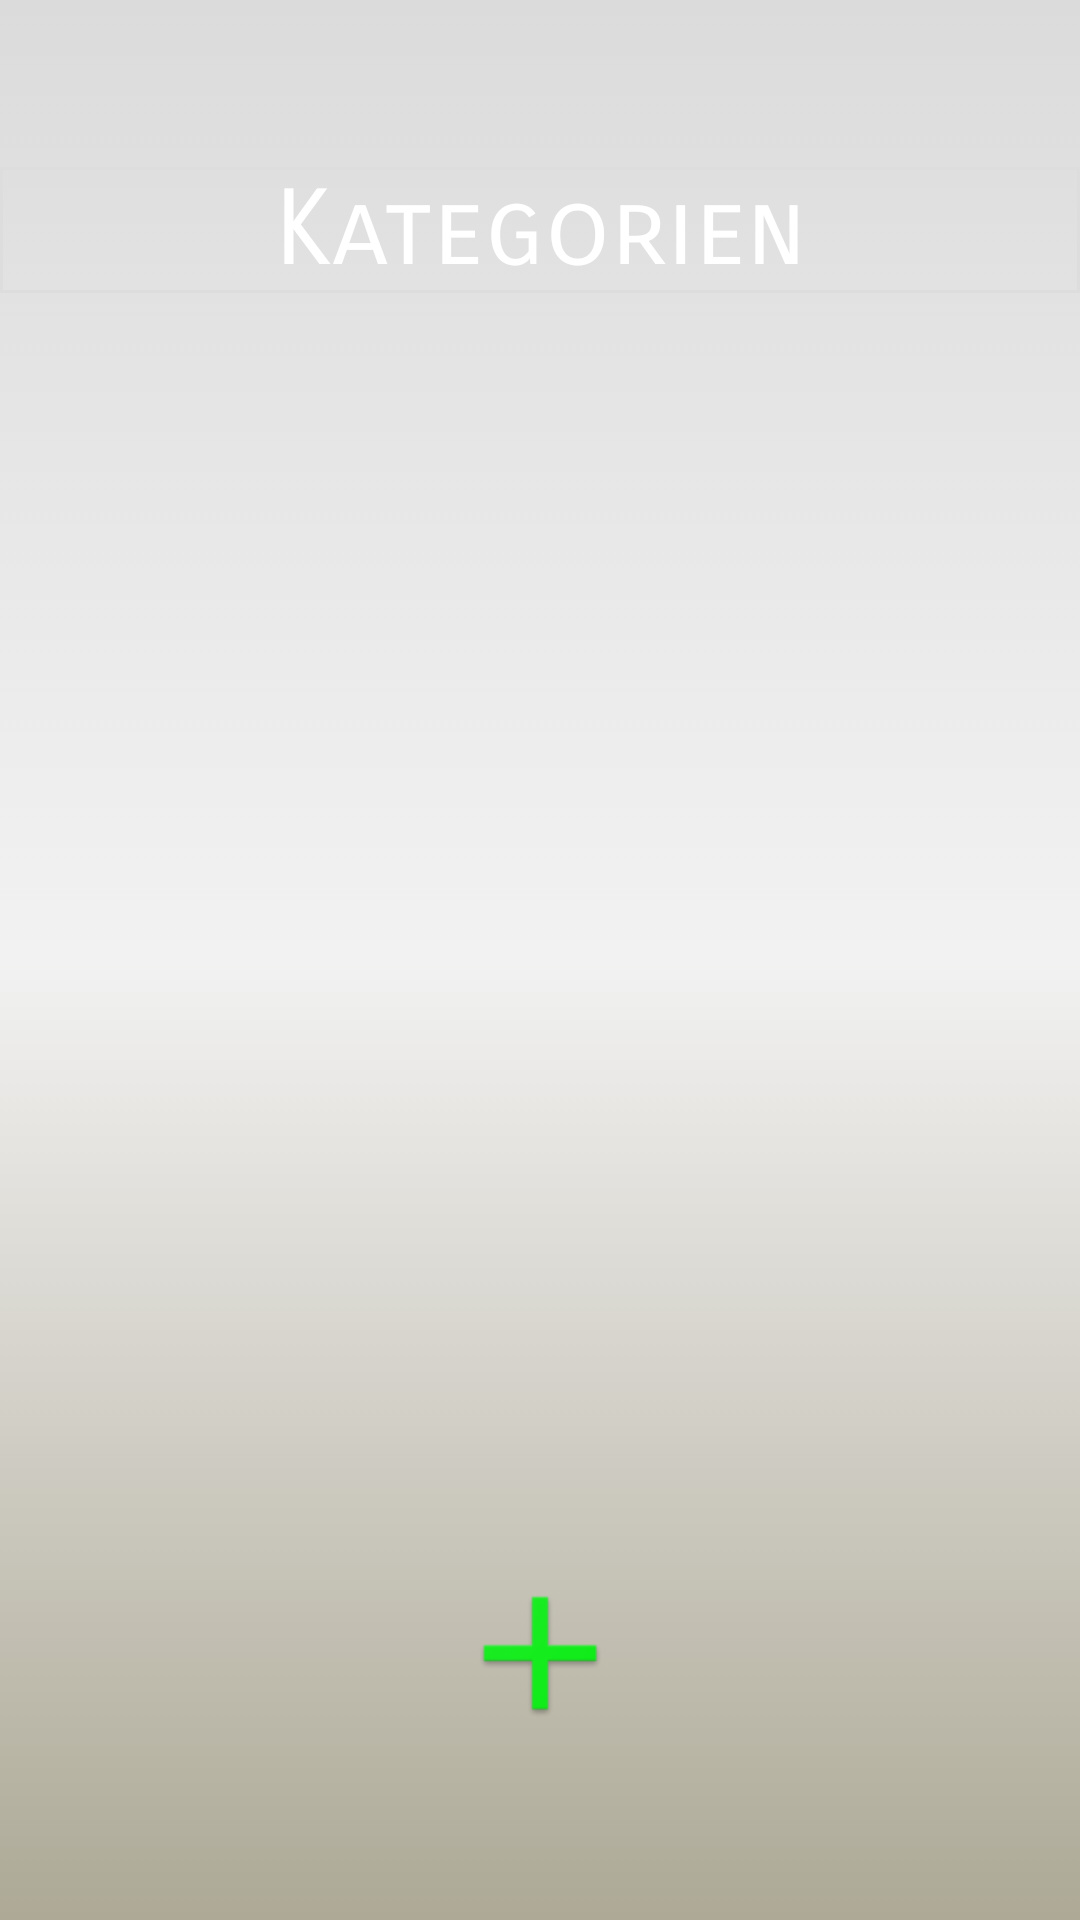

Icon bounding boxes for this 1080*1920 phone screenshot, format (x1=x1, y1=y1, x2=x2, y2=y2):
additem: (x1=440, y1=1553, x2=640, y2=1715)
